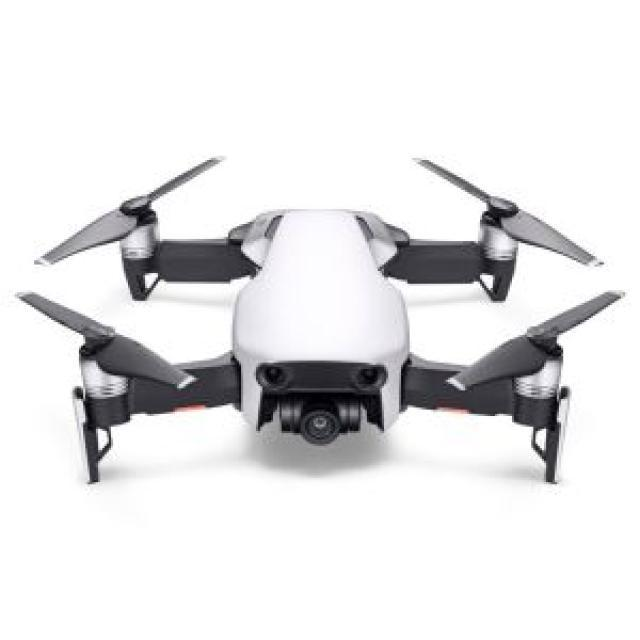drone: (6, 147, 623, 489)
